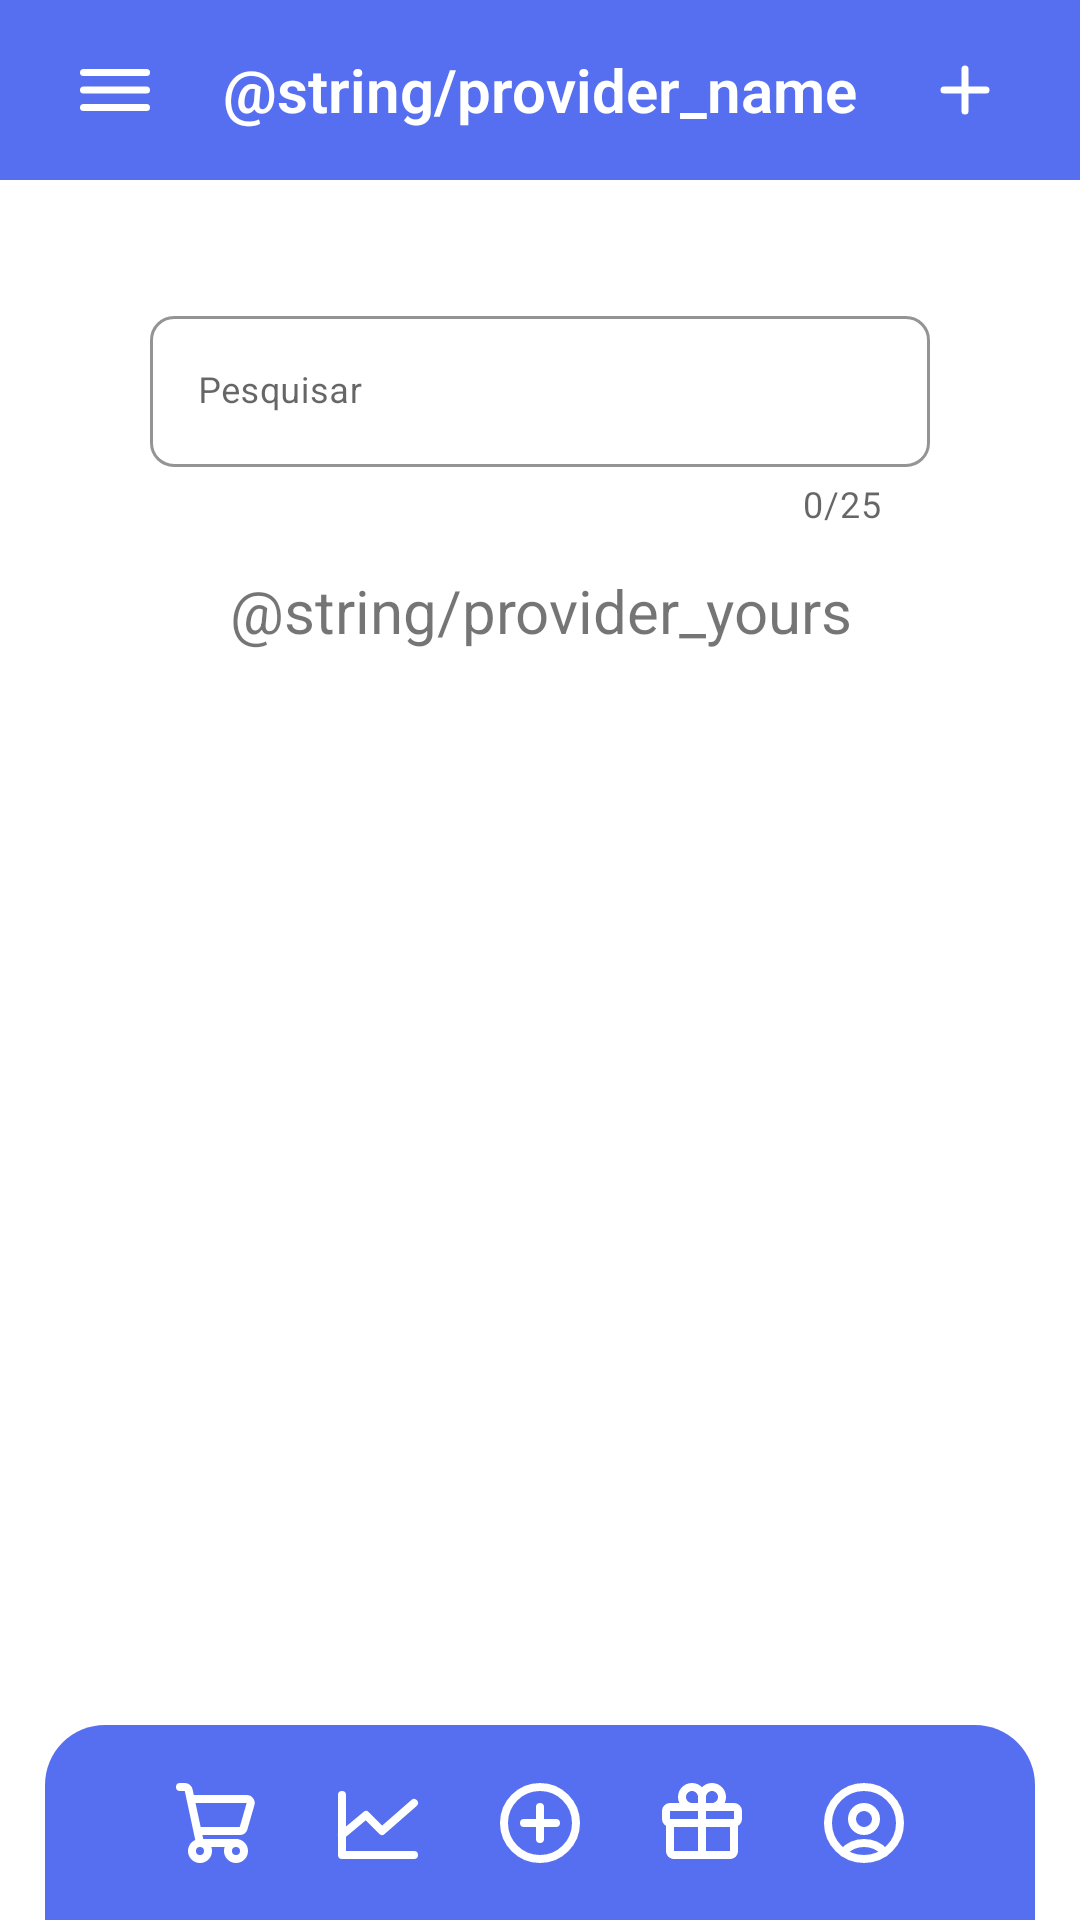

Icon bounding boxes for this 1080w x 1920h phone screenshot, format (x1, y1, x2, y2):
add plus: (940, 65, 990, 115)
add plus circle: (500, 1783, 580, 1863)
chart line: (338, 1791, 418, 1859)
gift: (662, 1783, 742, 1859)
hamburger lg: (80, 69, 150, 111)
shopping cart: (176, 1783, 255, 1863)
usercircle: (824, 1783, 904, 1863)
